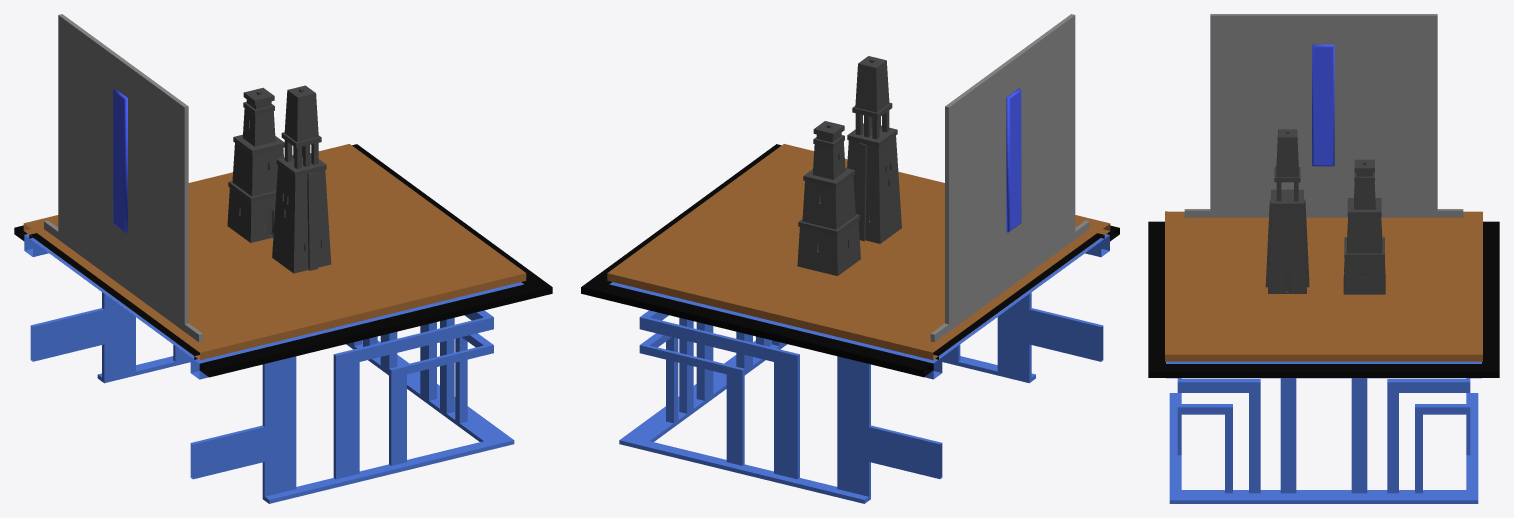
Rendered from Shaking Table Bagian 1.fbx.
3 views of the same model, side by side, from view 1: azimuth 30°, elevation 25°; view 2: azimuth 150°, elevation 25°; view 3: azimuth 270°, elevation 25° (orthographic). The views are drawn at different scales.
Parts seen in each view (by area): view 1: 2_low.003; view 2: 2_low.003; view 3: 2_low.003.
Boxes of the visible parts, x1,y1,x2,y2 form: 2_low.003: (14, 14, 552, 503); 2_low.003: (581, 14, 1119, 503); 2_low.003: (1148, 14, 1499, 503).
Bounding box in the file's own units: 90.15 × 99.14 × 88.89.
